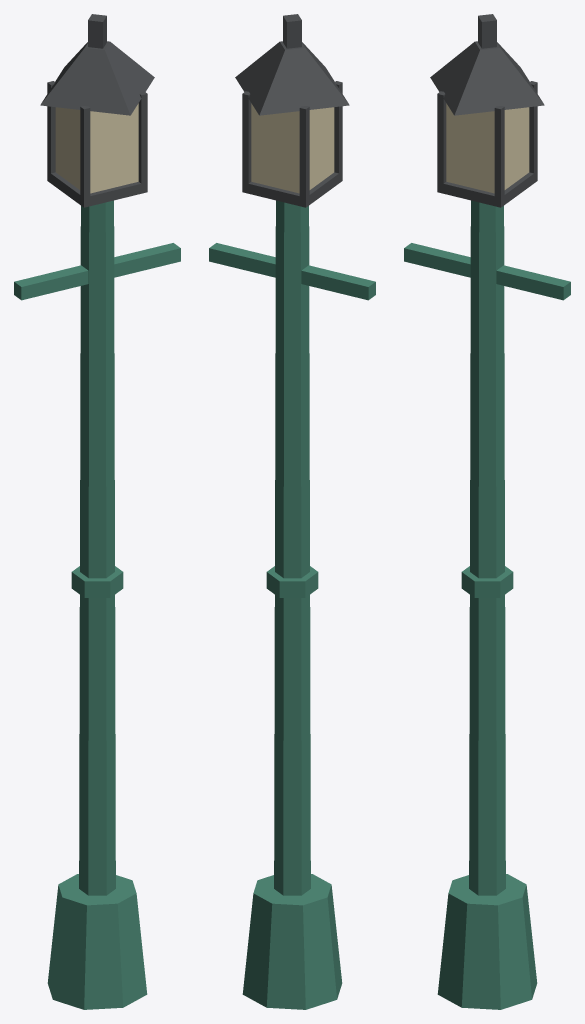
Rendered from rail_station_lamp.glb.
3 views of the same model, side by side, from view 1: azimuth 30°, elevation 25°; view 2: azimuth 150°, elevation 25°; view 3: azimuth 330°, elevation 25° (orthographic).
Size of the model in its own units: 0.5 by 2.91 by 0.36.
